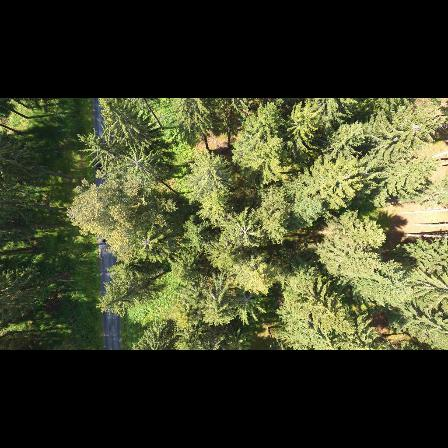Sick: (231, 218, 258, 245), (234, 287, 259, 315), (135, 230, 158, 255)
